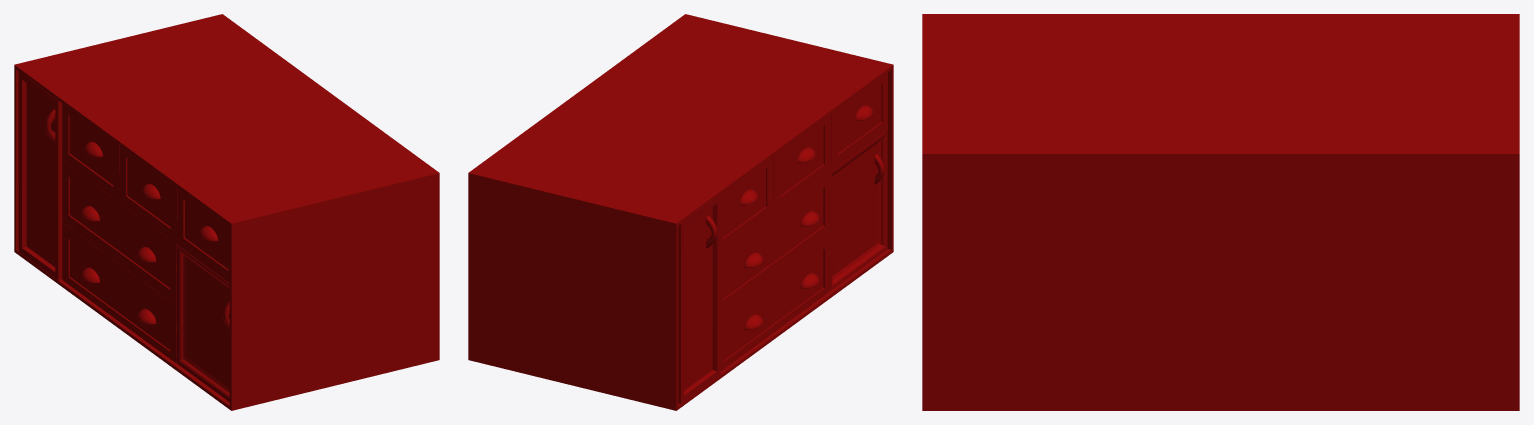
File: Kitchen_part1.fbx
3 views of the same model, side by side, from view 1: azimuth 30°, elevation 25°; view 2: azimuth 150°, elevation 25°; view 3: azimuth 270°, elevation 25° (orthographic). The views are drawn at different scales.
Visible parts, largest first — view 1: PM3D_poingnet_violet009; view 2: PM3D_poingnet_violet009; view 3: PM3D_poingnet_violet009.
Boxes of the visible parts, x1,y1,x2,y2 form: PM3D_poingnet_violet009: [14, 14, 439, 410]; PM3D_poingnet_violet009: [468, 14, 893, 410]; PM3D_poingnet_violet009: [922, 14, 1519, 410].
Size of the model in its own units: 116 by 96.73 by 203.
